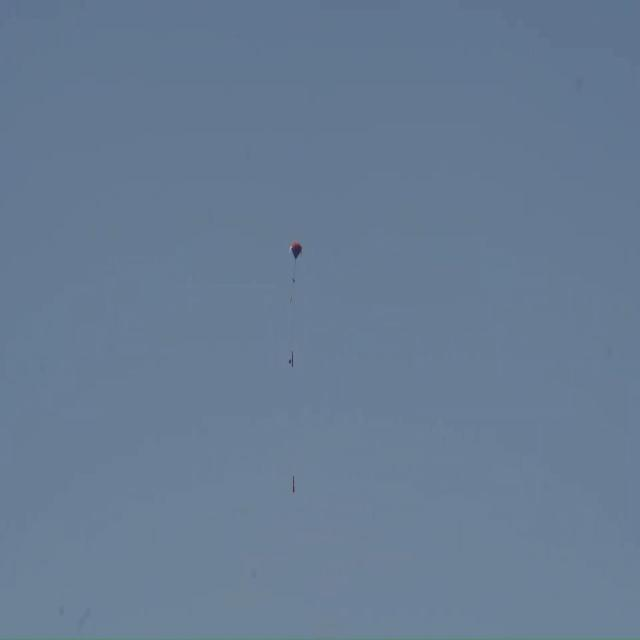Rocket: (292, 476, 296, 492)
